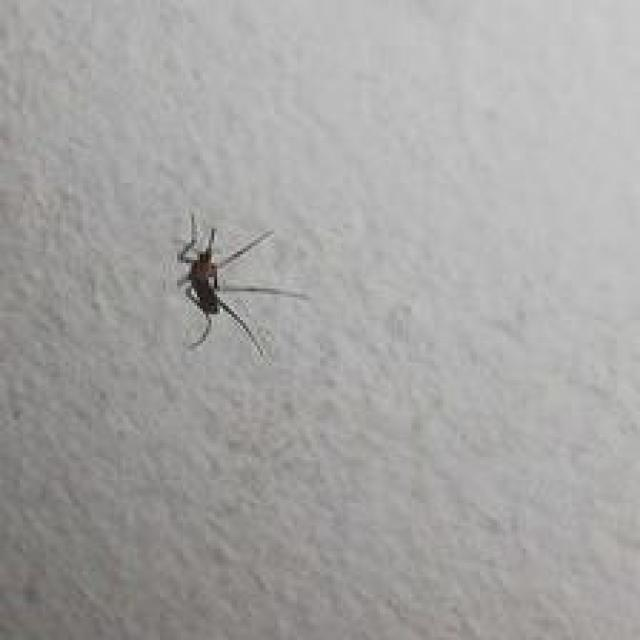Culex: (172, 211, 308, 363)
